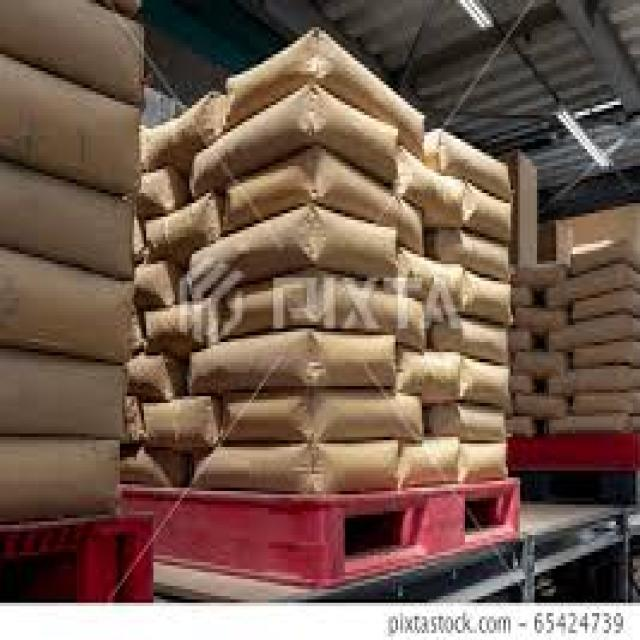cement_bag: (225, 29, 430, 147), (199, 81, 400, 196), (230, 147, 425, 249), (0, 63, 147, 195), (194, 213, 397, 300), (0, 242, 135, 364), (228, 271, 425, 352), (0, 168, 134, 274), (0, 2, 145, 97), (198, 334, 398, 400), (224, 394, 421, 445), (0, 359, 125, 433), (1, 442, 120, 515), (193, 447, 394, 488), (398, 247, 469, 322), (399, 147, 467, 225), (151, 91, 212, 174), (443, 137, 512, 198), (146, 195, 210, 257), (551, 259, 627, 310), (147, 394, 209, 450), (145, 305, 212, 354), (553, 312, 629, 354), (466, 186, 519, 240), (463, 273, 515, 323), (458, 237, 513, 284), (407, 439, 458, 489), (555, 366, 628, 396), (574, 237, 630, 276), (461, 440, 507, 486), (457, 320, 507, 362), (574, 394, 633, 420), (461, 405, 503, 439), (520, 396, 561, 418)
